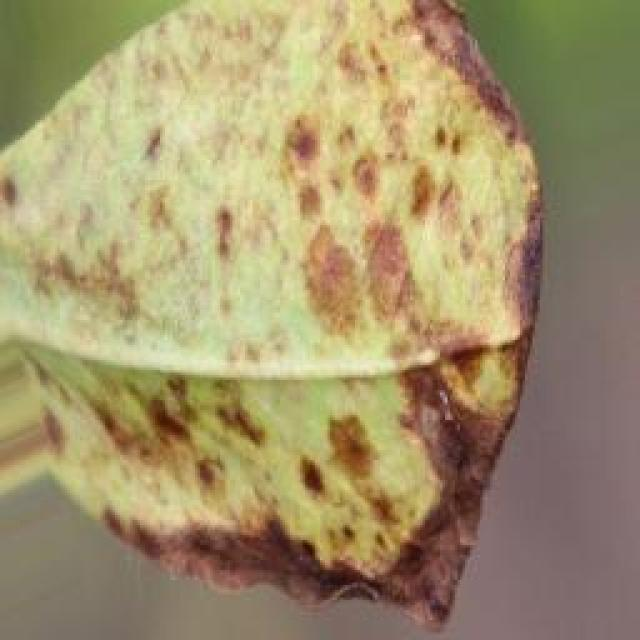Whitefly: (0, 0, 530, 635)
